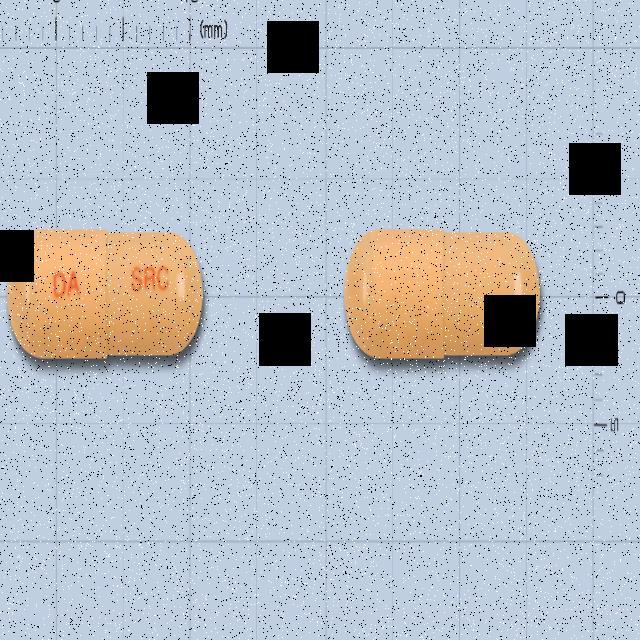Suprax Cap- Dong-A: (5, 227, 205, 361)
